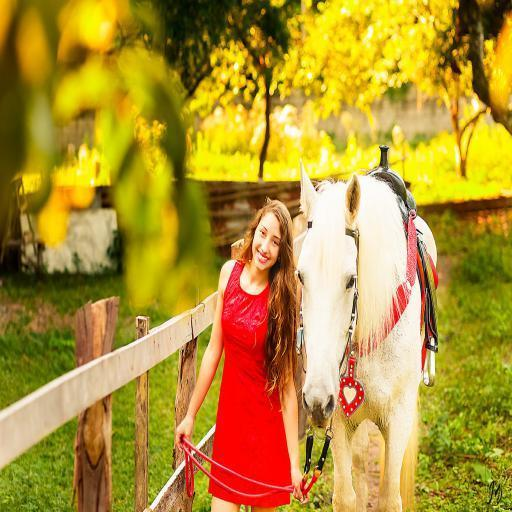horse: (292, 156, 438, 512)
